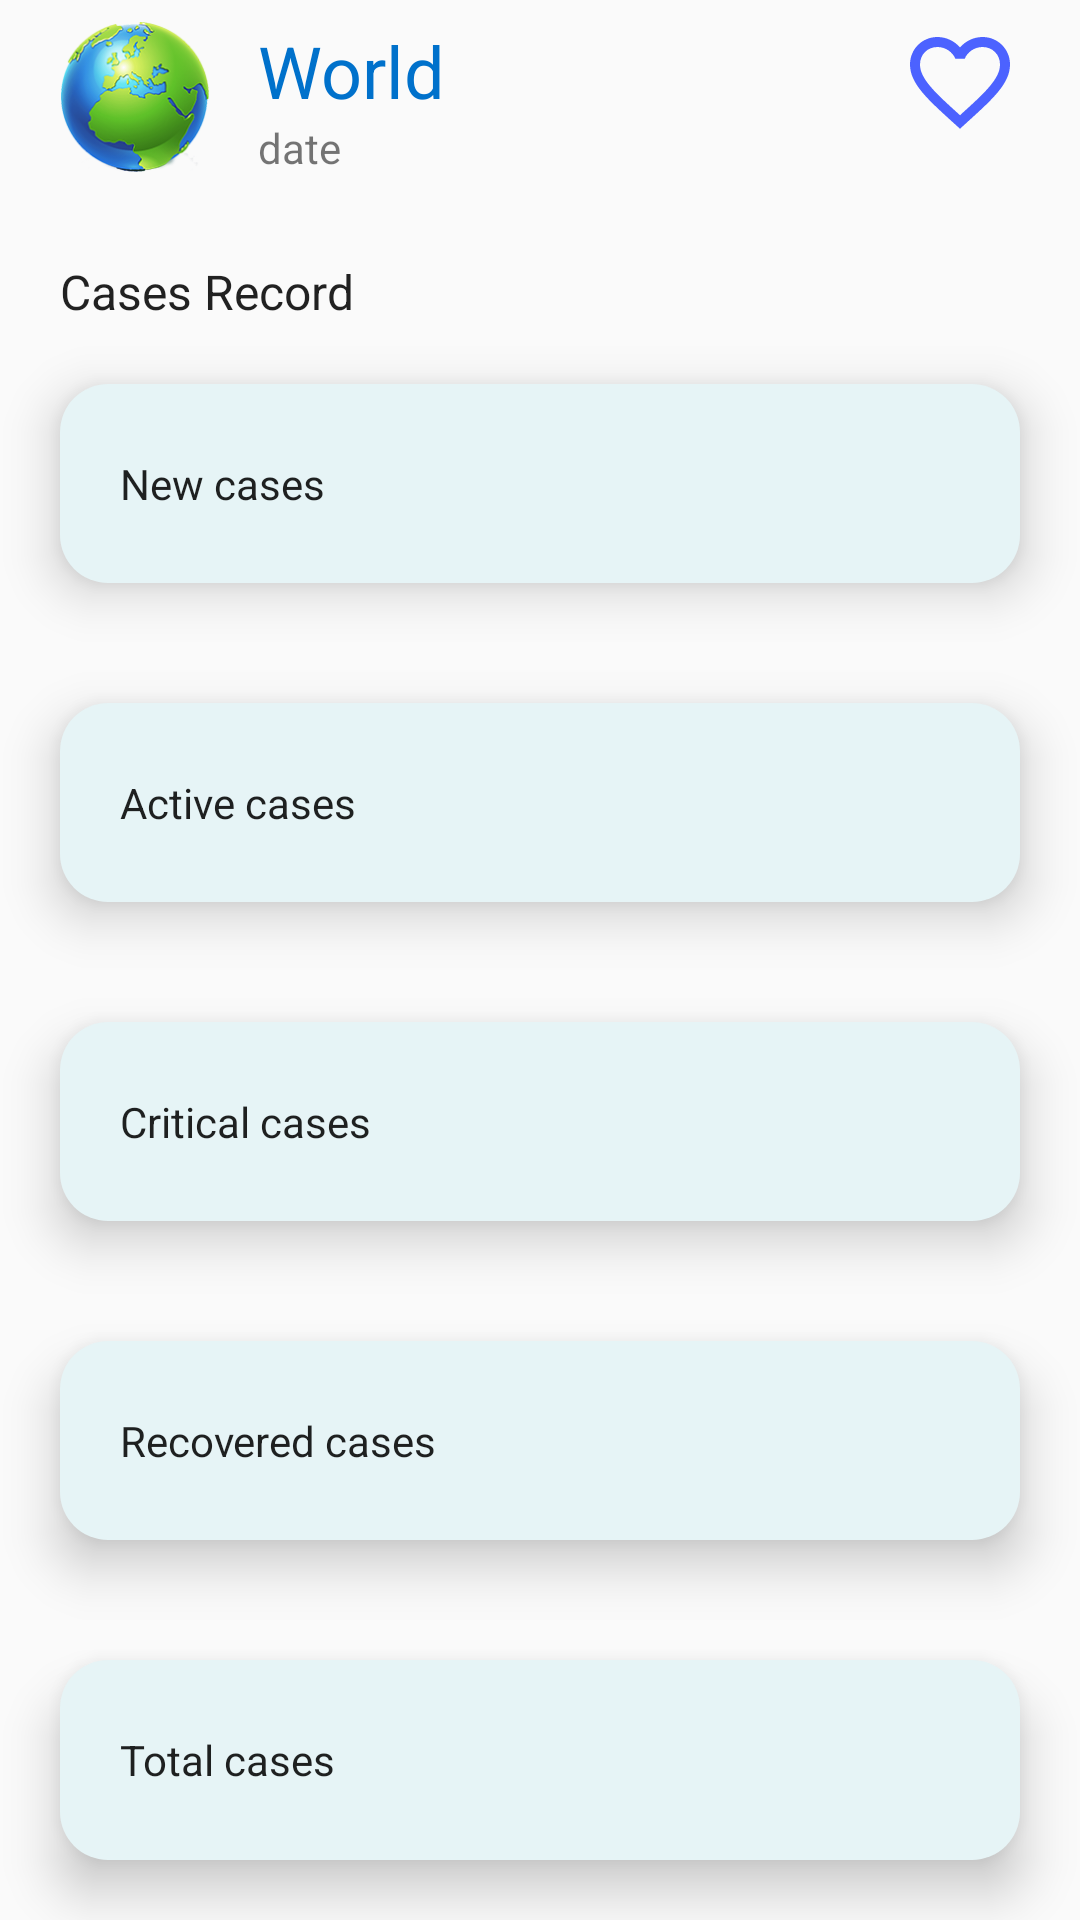

Where to tap for icons on this 1080x1920 app screen, as point (x, y):
favorite border: point (960, 83)
globe: point (135, 97)
